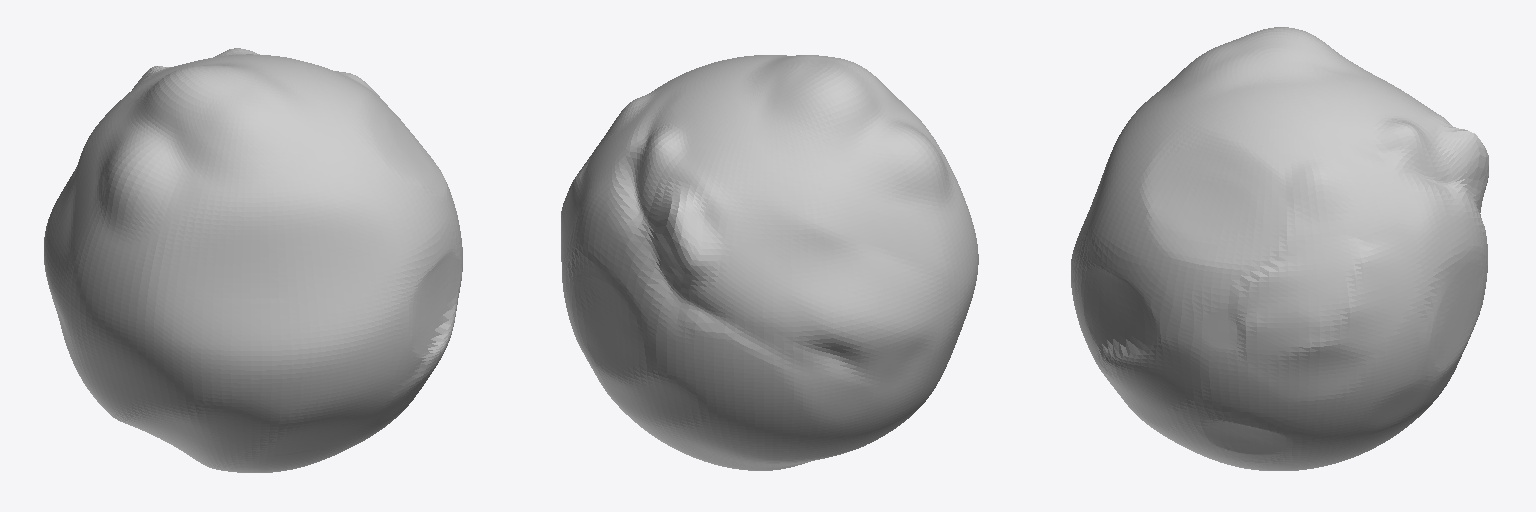
Rendered from Planet1.obj.
The picture shows the model from 3 angles: view 1: azimuth 30°, elevation 25°; view 2: azimuth 150°, elevation 25°; view 3: azimuth 270°, elevation 25°; orthographic projection.
Parts seen in each view (by area): view 1: Sphere; view 2: Sphere; view 3: Sphere.
Part boxes in pixels (x1,y1,x2,y2): Sphere: (44, 48, 462, 472); Sphere: (561, 55, 978, 470); Sphere: (1071, 27, 1488, 470).
Size of the model in its own units: 2.01 by 2.08 by 2.01.